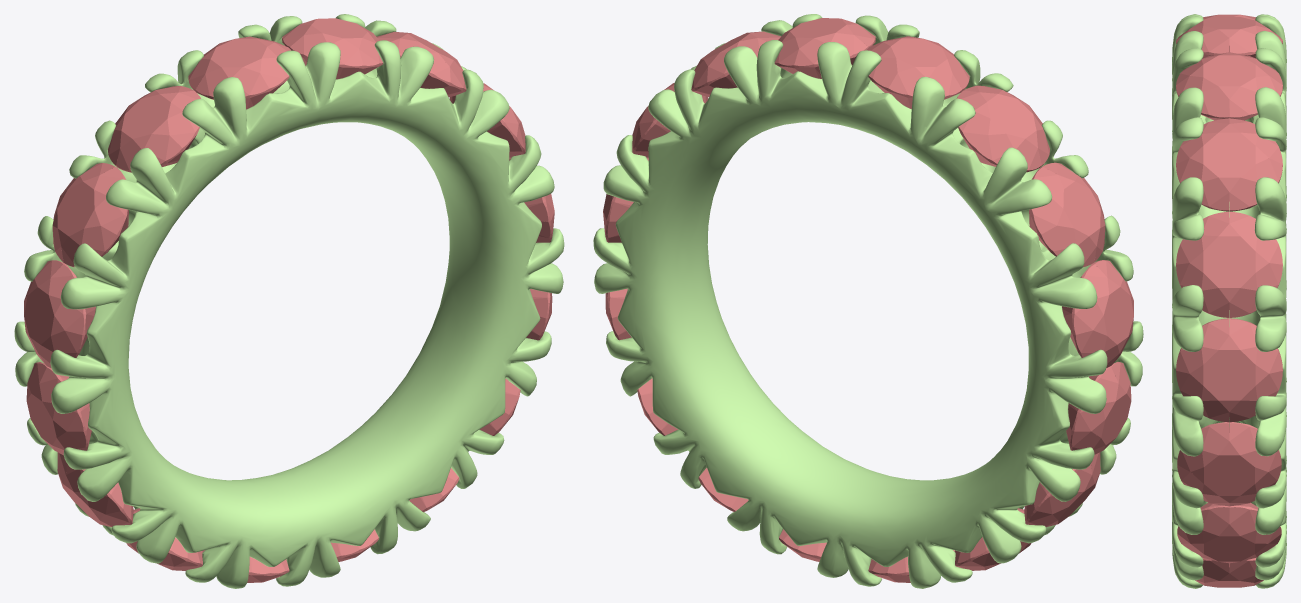
The model's file is BE2D4988E_RENDER.glb.
3 renders of one model, left to right at view 1: azimuth 30°, elevation 25°; view 2: azimuth 150°, elevation 25°; view 3: azimuth 270°, elevation 25°, orthographic. The views are drawn at different scales.
Visible parts, largest first — view 1: Metal03, Diamond_Round_Gem_BD.001, Diamond_Round_Gem_BD.010, Diamond_Round_Gem_BD.002, Diamond_Round_Gem_BD.011, Diamond_Round_Gem_BD.008, Diamond_Round_Gem_BD.012, Diamond_Round_Gem_BD.003, Diamond_Round_Gem_BD.014, Diamond_Round_Gem_BD.015, Diamond_Round_Gem_BD.004, Diamond_Round_Gem_BD.013 (+3 smaller); view 2: Metal03, Diamond_Round_Gem_BD.001, Diamond_Round_Gem_BD.010, Diamond_Round_Gem_BD.002, Diamond_Round_Gem_BD.011, Diamond_Round_Gem_BD.008, Diamond_Round_Gem_BD.012, Diamond_Round_Gem_BD.003, Diamond_Round_Gem_BD.014, Diamond_Round_Gem_BD.015, Diamond_Round_Gem_BD.004, Diamond_Round_Gem_BD.013 (+3 smaller); view 3: Metal03, Diamond_Round_Gem_BD.015, Diamond_Round_Gem_BD.013, Diamond_Round_Gem_BD.014, Diamond_Round_Gem_BD.009, Diamond_Round_Gem_BD.008, Diamond_Round_Gem_BD.007, Diamond_Round_Gem_BD.011, Diamond_Round_Gem_BD.006, Diamond_Round_Gem_BD.010.
Boxes of the visible parts, <box> form: Metal03: <box>14,14,564,588</box>; Diamond_Round_Gem_BD.001: <box>52,163,128,267</box>; Diamond_Round_Gem_BD.010: <box>108,86,200,172</box>; Diamond_Round_Gem_BD.002: <box>24,260,95,367</box>; Diamond_Round_Gem_BD.011: <box>188,36,290,109</box>; Diamond_Round_Gem_BD.008: <box>282,18,383,79</box>; Diamond_Round_Gem_BD.012: <box>26,362,91,454</box>; Diamond_Round_Gem_BD.003: <box>57,452,133,527</box>; Diamond_Round_Gem_BD.014: <box>377,31,466,96</box>; Diamond_Round_Gem_BD.015: <box>449,83,525,158</box>; Diamond_Round_Gem_BD.004: <box>126,508,203,570</box>; Diamond_Round_Gem_BD.013: <box>509,158,554,242</box>; Metal03: <box>593,14,1143,588</box>; Diamond_Round_Gem_BD.001: <box>1029,162,1105,266</box>; Diamond_Round_Gem_BD.010: <box>957,85,1049,172</box>; Diamond_Round_Gem_BD.002: <box>1062,260,1133,367</box>; Diamond_Round_Gem_BD.011: <box>867,36,969,108</box>; Diamond_Round_Gem_BD.008: <box>774,18,875,78</box>; Diamond_Round_Gem_BD.012: <box>1066,362,1131,454</box>; Diamond_Round_Gem_BD.003: <box>1024,452,1100,526</box>; Diamond_Round_Gem_BD.014: <box>691,31,780,96</box>; Diamond_Round_Gem_BD.015: <box>632,83,708,158</box>; Diamond_Round_Gem_BD.004: <box>954,508,1031,570</box>; Diamond_Round_Gem_BD.013: <box>603,158,648,242</box>; Metal03: <box>1172,14,1286,588</box>; Diamond_Round_Gem_BD.015: <box>1176,211,1282,317</box>; Diamond_Round_Gem_BD.013: <box>1176,318,1282,422</box>; Diamond_Round_Gem_BD.014: <box>1176,118,1282,211</box>; Diamond_Round_Gem_BD.009: <box>1177,422,1281,506</box>; Diamond_Round_Gem_BD.008: <box>1176,52,1282,120</box>; Diamond_Round_Gem_BD.007: <box>1177,502,1281,563</box>; Diamond_Round_Gem_BD.011: <box>1176,17,1282,58</box>; Diamond_Round_Gem_BD.006: <box>1195,557,1263,587</box>; Diamond_Round_Gem_BD.010: <box>1203,14,1255,20</box>.
Size of the model in its own units: 24.2 by 24.16 by 4.84.
